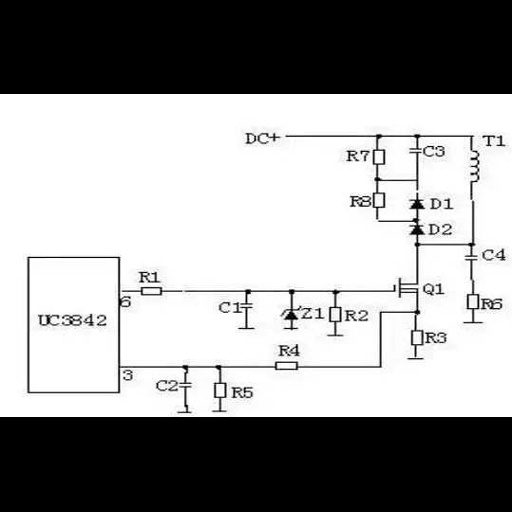capacitor: (178, 377, 194, 393), (464, 251, 481, 266), (405, 143, 422, 157), (240, 298, 255, 312)
firstdiode: (406, 196, 428, 212), (407, 222, 427, 238)
firstresistance: (137, 284, 168, 299), (370, 145, 389, 169), (406, 327, 426, 349), (273, 359, 301, 374), (211, 379, 230, 401), (327, 302, 343, 328), (462, 291, 480, 314), (371, 189, 389, 212)
inductor: (466, 145, 482, 189)
